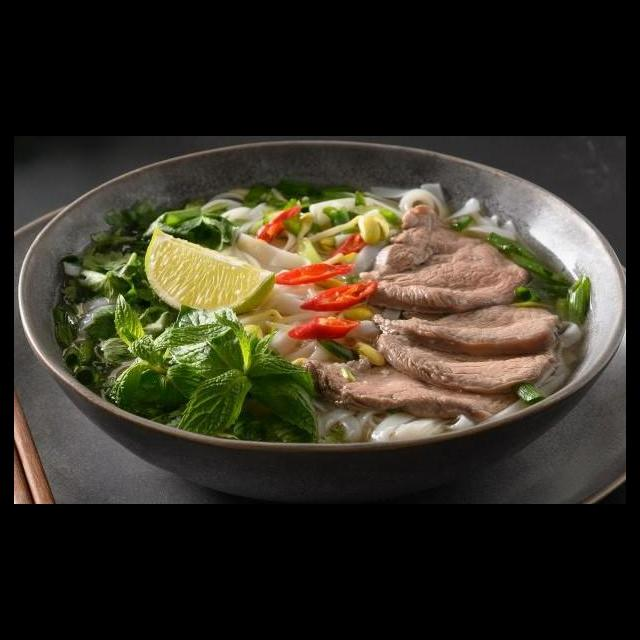banh pho: (226, 229, 396, 371), (360, 178, 522, 246), (307, 402, 479, 451)
pho bo: (21, 165, 626, 504)
thit bo: (355, 213, 533, 323), (300, 352, 535, 428), (370, 326, 563, 401), (371, 298, 564, 364)
